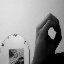o: (33, 12, 64, 56)
